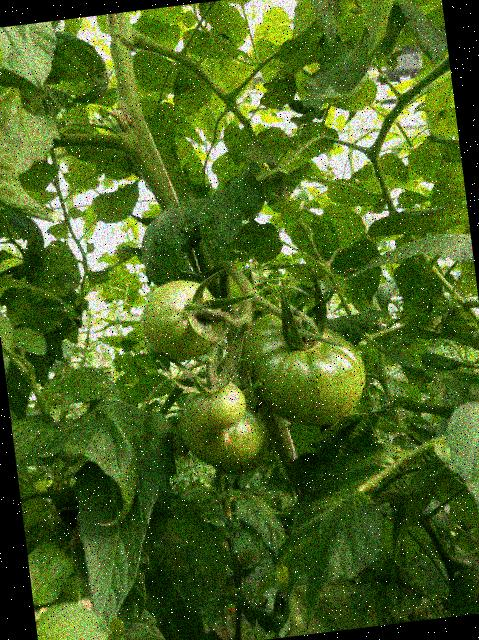b_green: (234, 299, 372, 435), (135, 275, 228, 365), (177, 398, 267, 472), (181, 375, 248, 435)
